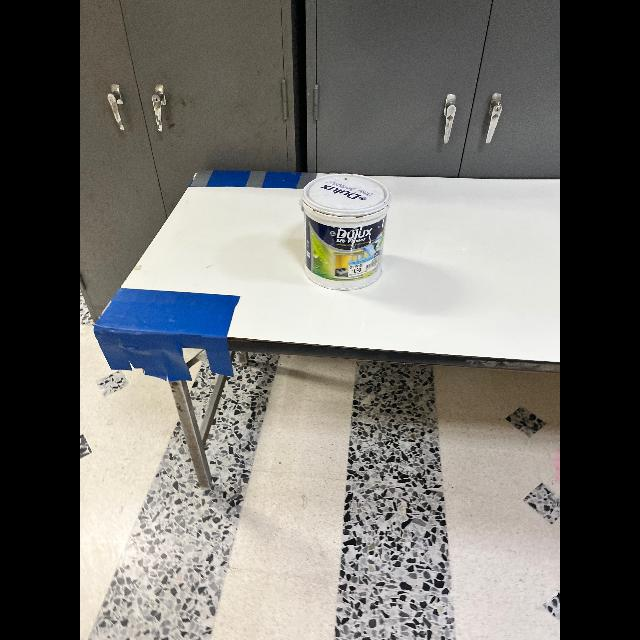paint_bucket: (292, 160, 401, 294)
